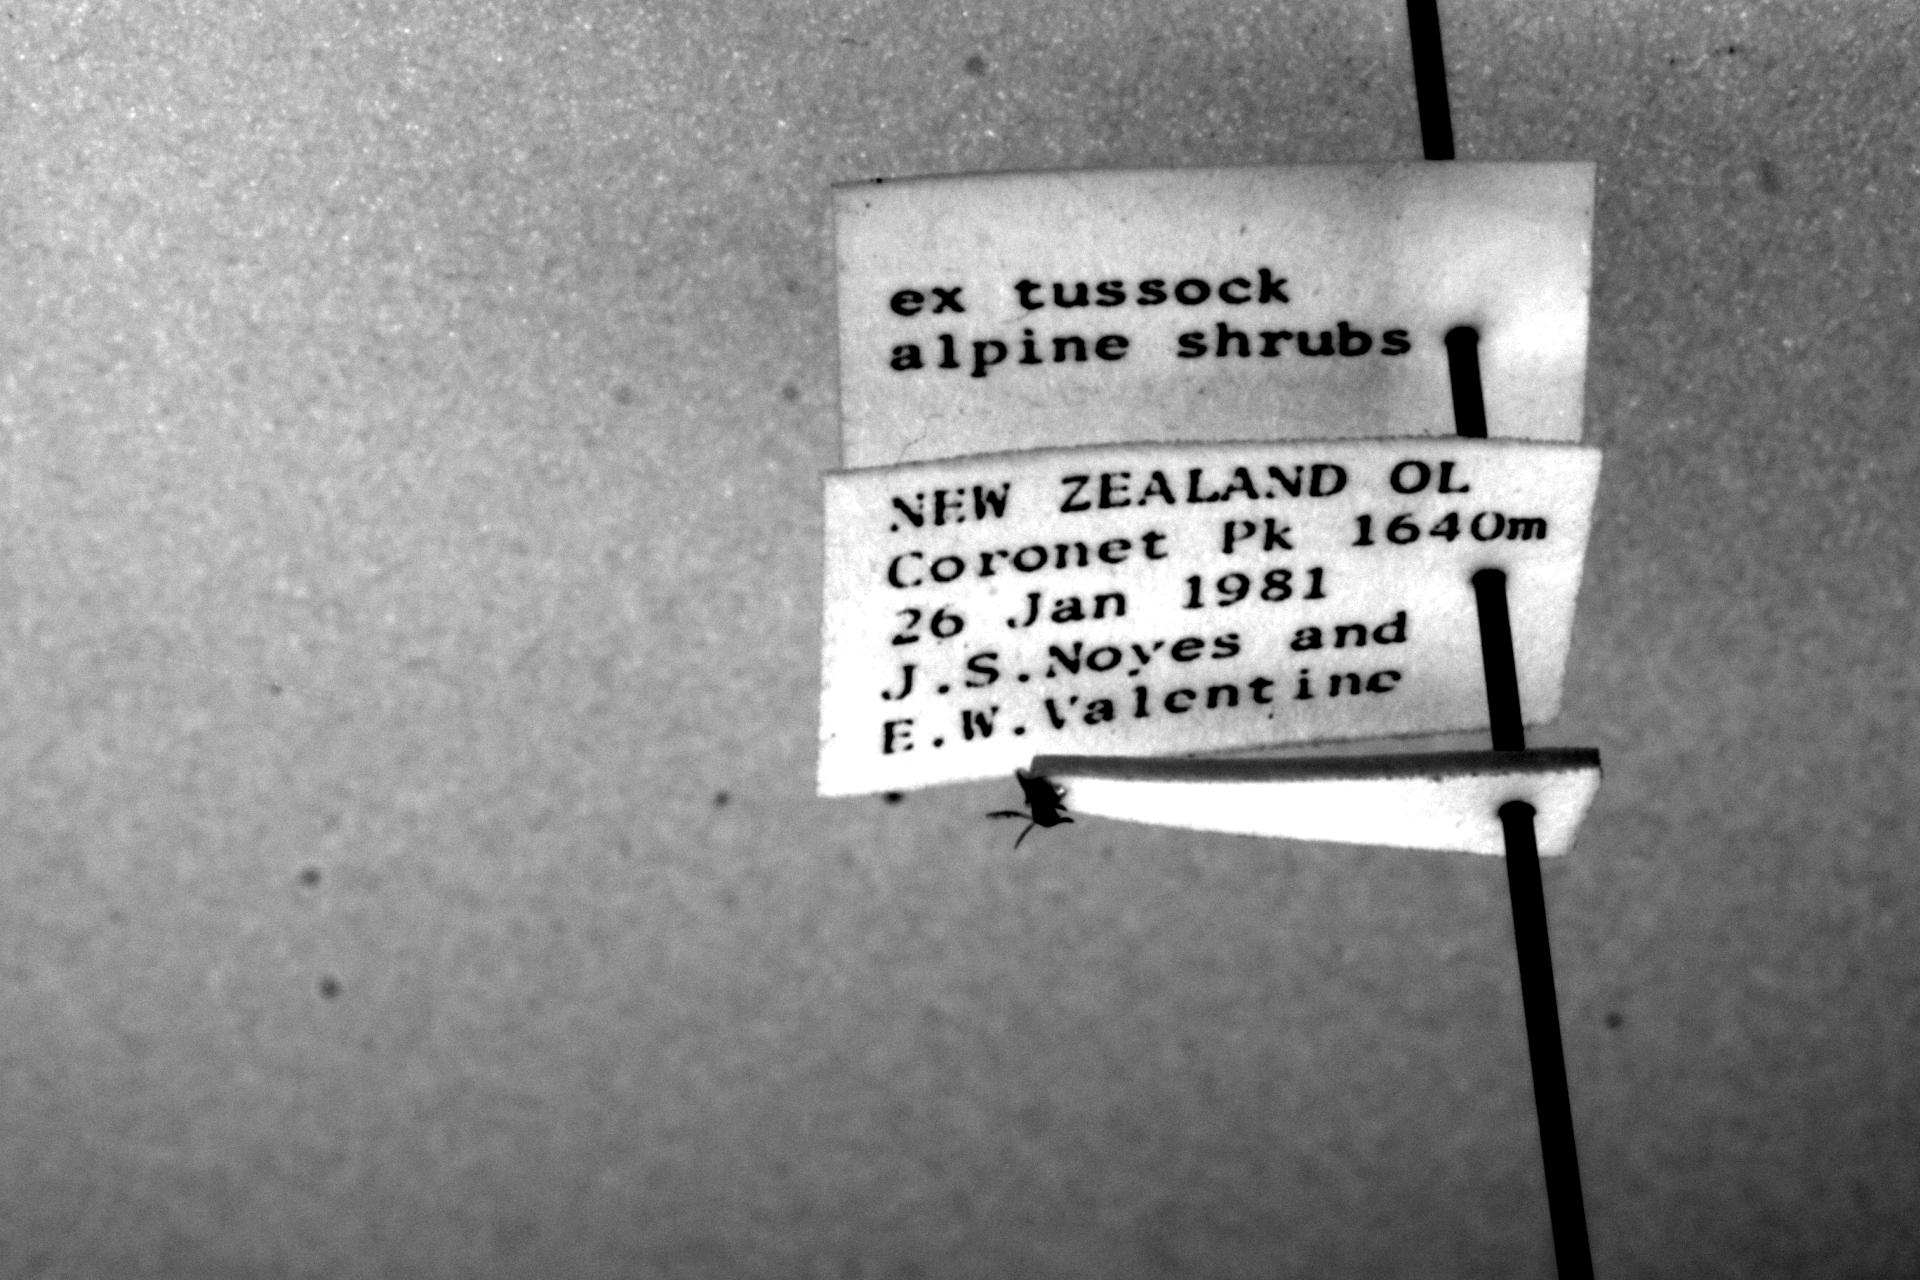typed_label: (818, 439, 1601, 795), (832, 161, 1598, 469)
